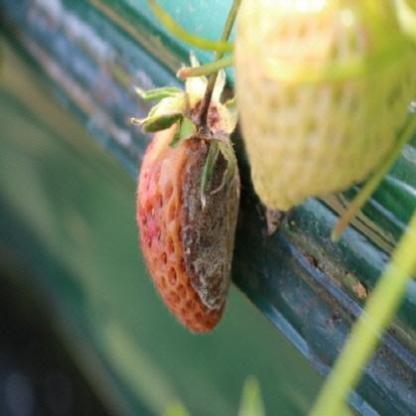Strawberry_Gray_Mold: (134, 91, 242, 335)
